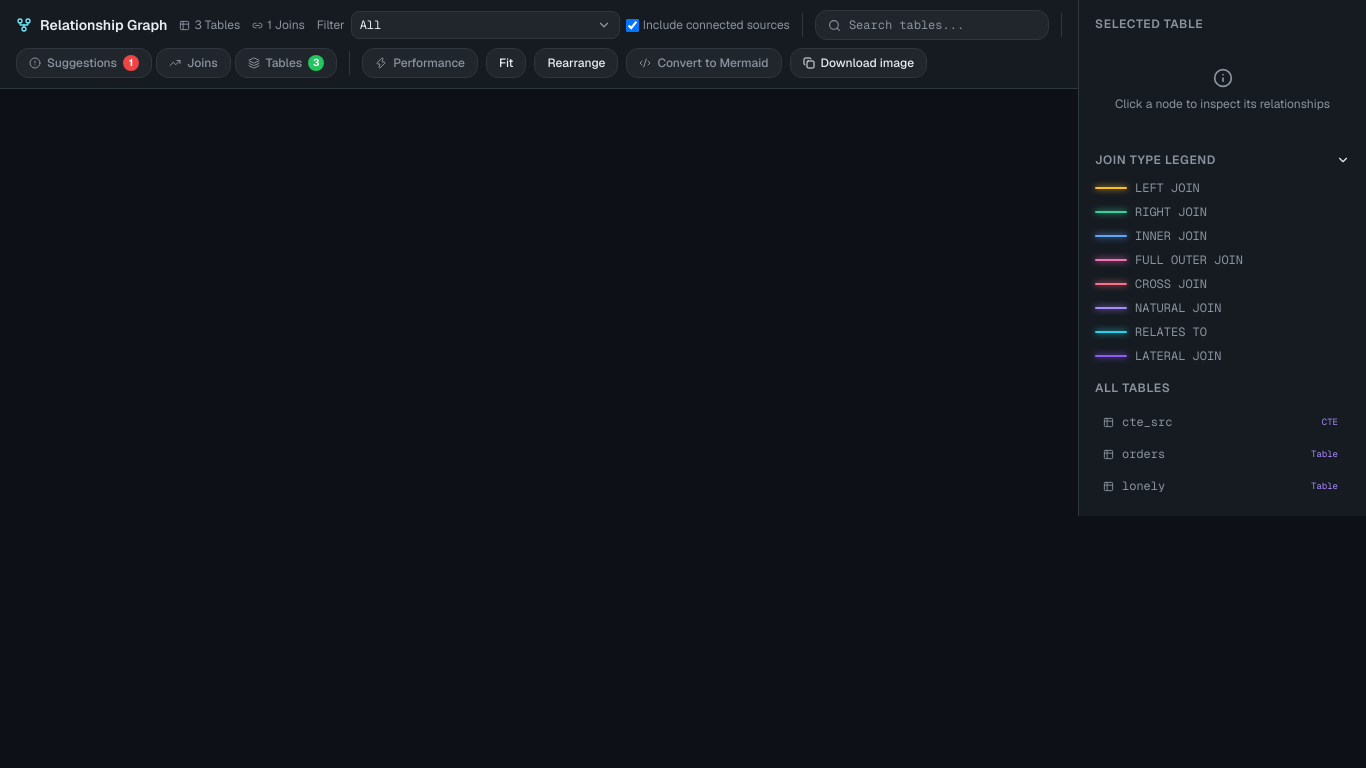
Scenario: suggestion activation (019 A17) / isolated-tables suggestions (019 U26-U27) › A17/U26: activating an isolated-tables suggestion selects its visible related source
Click the button "Suggestions 1" at {"x": 84, "y": 63}, box x1=16 y1=48 x2=152 y2=78
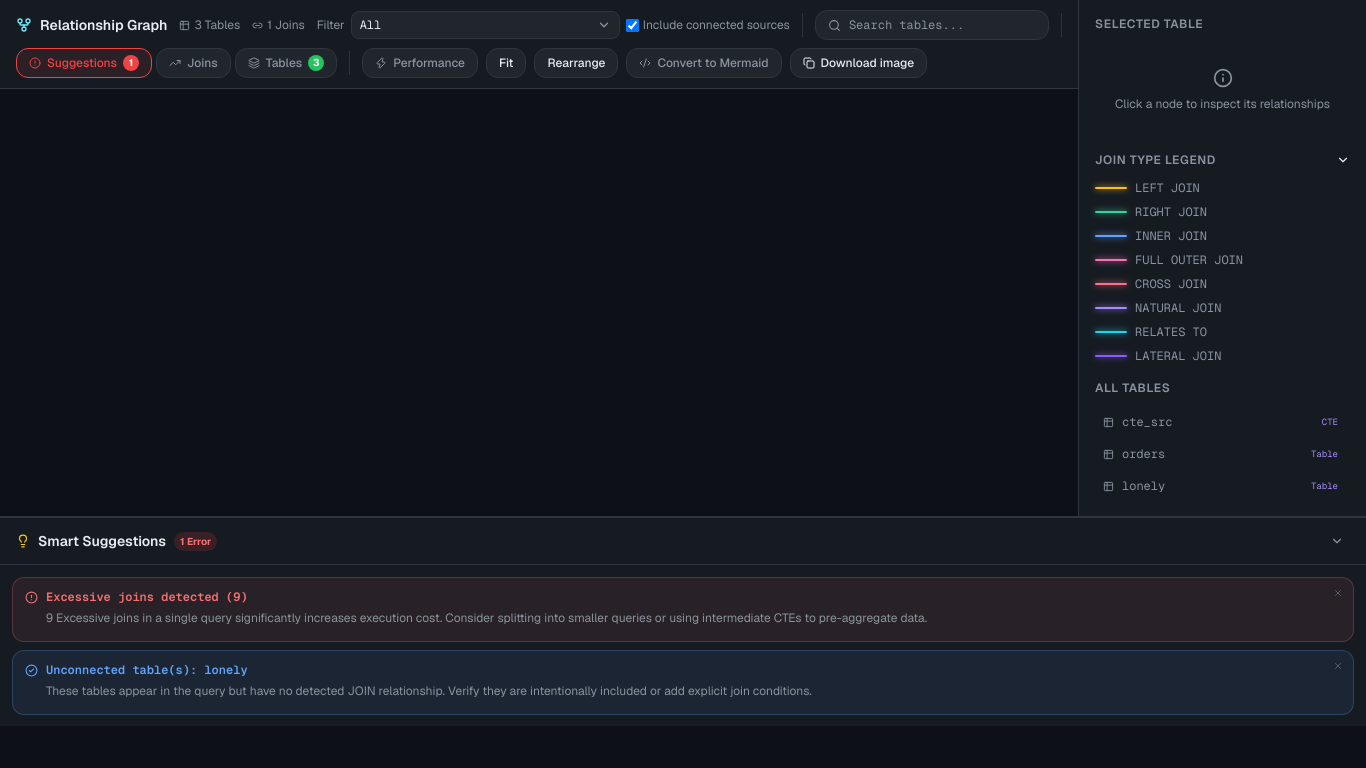
Click the button "Unconnected table" at {"x": 683, "y": 682}, box x1=12 y1=650 x2=1354 y2=714
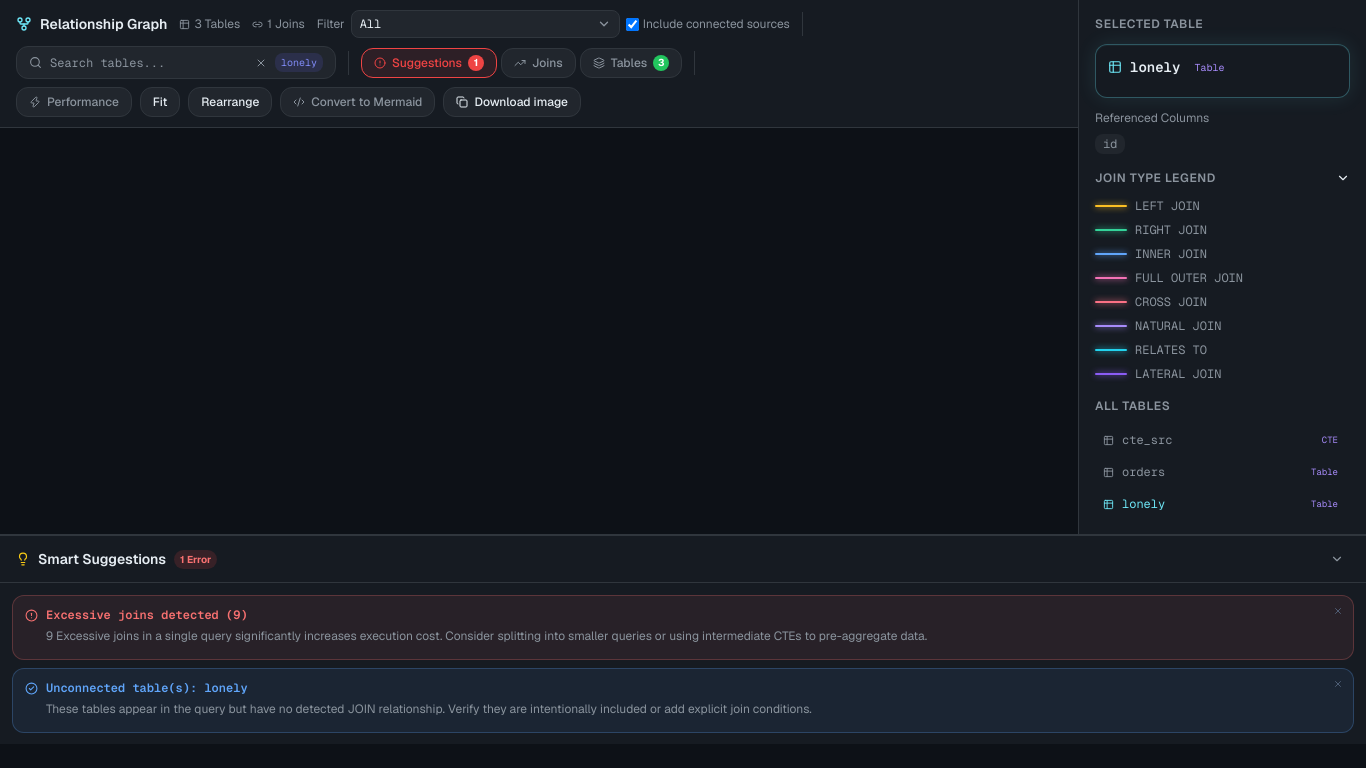
Expected: the text "lonely" below "Relationship Graph" is shown, x1=281 y1=56 x2=317 y2=69
Expected: the element with class "glass-node" is shown, x1=1095 y1=44 x2=1350 y2=98
Expected: the element with class "glass-node" shows "lonely", x1=1130 y1=58 x2=1180 y2=76
